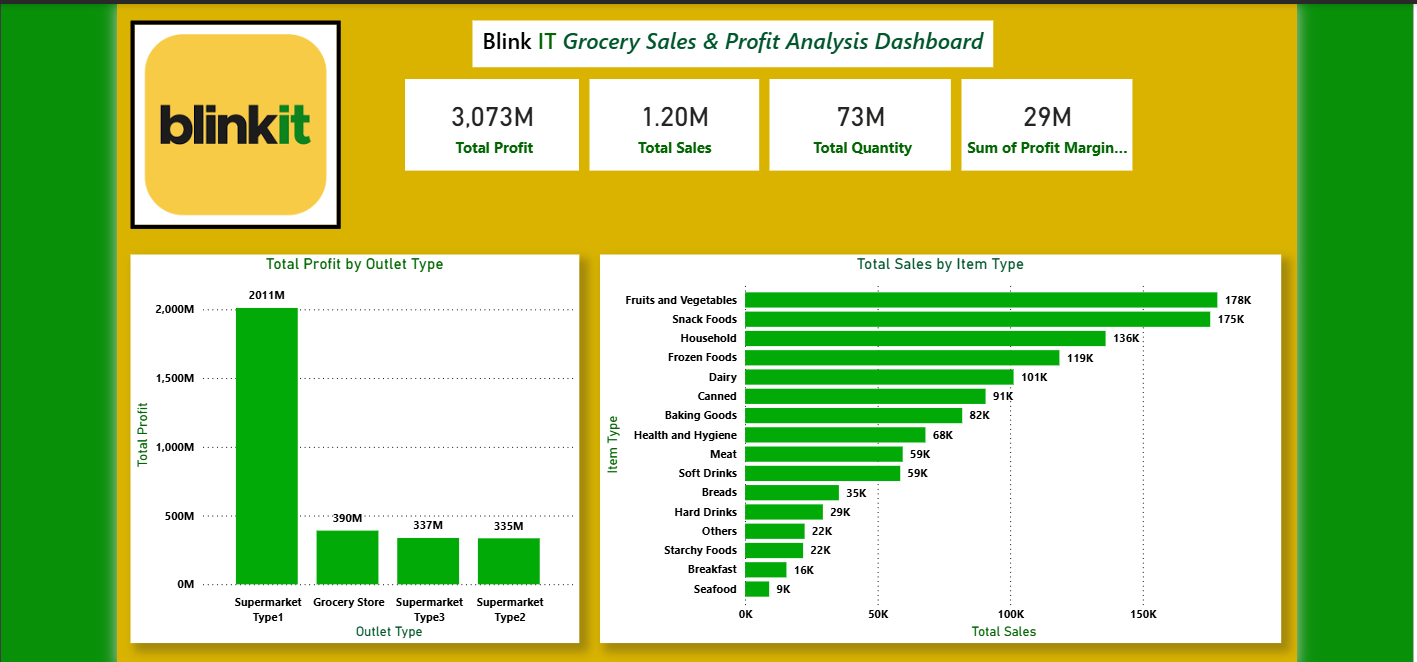

The page's visual inventory and layout, read from the dashboard file:
{"tool":"powerbi","page":{"name":"Profitable _Sales","canvas":[1280,720],"ordinal":0},"visuals":[{"type":"textbox","box":[385.5,17.9,564.4,50.4],"z":0},{"type":"card","fields":{"Values":["Sum(BlinkIT Grocery Data.Total Profit)"]},"box":[312.3,81.3,188.7,99.2],"z":1000},{"type":"card","fields":{"Values":["BlinkIT Grocery Data.Total Sales"]},"box":[512.4,81.3,183.8,99.2],"z":2000},{"type":"card","fields":{"Values":["Sum(BlinkIT Grocery Data.Total Quantity)"]},"box":[707.5,81.3,196.8,99.2],"z":3000},{"type":"image","box":[14.6,17.9,227.7,226.1],"z":4000},{"type":"card","fields":{"Values":["Sum(BlinkIT Grocery Data.Profit Margin %)"]},"box":[915.7,81.3,185.4,99.2],"z":5000},{"type":"clusteredBarChart","fields":{"Y":["BlinkIT Grocery Data.Total Sales"],"Category":["BlinkIT Grocery Data.Item Type"]},"box":[523.7,271.6,738.5,421.3],"z":6000},{"type":"clusteredColumnChart","fields":{"Y":["Sum(BlinkIT Grocery Data.Total Profit)"],"Category":["BlinkIT Grocery Data.Outlet Type"]},"box":[14.6,271.6,486.3,421.3],"z":7000}]}

Visuals, with their boxes on the page's 1280x720 design canvas (x1, y1, x2, y2). These are canvas units, not pixel positions in the 1417x662 screenshot, which may show the page scaled, cropped or inside an application window:
textbox: {"left": 386, "top": 18, "right": 950, "bottom": 68}
card - Sum(BlinkIT Grocery Data.Total Profit): {"left": 312, "top": 81, "right": 501, "bottom": 180}
card - BlinkIT Grocery Data.Total Sales: {"left": 512, "top": 81, "right": 696, "bottom": 180}
card - Sum(BlinkIT Grocery Data.Total Quantity): {"left": 708, "top": 81, "right": 904, "bottom": 180}
image: {"left": 15, "top": 18, "right": 242, "bottom": 244}
card - Sum(BlinkIT Grocery Data.Profit Margin %): {"left": 916, "top": 81, "right": 1101, "bottom": 180}
clusteredBarChart - BlinkIT Grocery Data.Total Sales x BlinkIT Grocery Data.Item Type: {"left": 524, "top": 272, "right": 1262, "bottom": 693}
clusteredColumnChart - Sum(BlinkIT Grocery Data.Total Profit) x BlinkIT Grocery Data.Outlet Type: {"left": 15, "top": 272, "right": 501, "bottom": 693}
